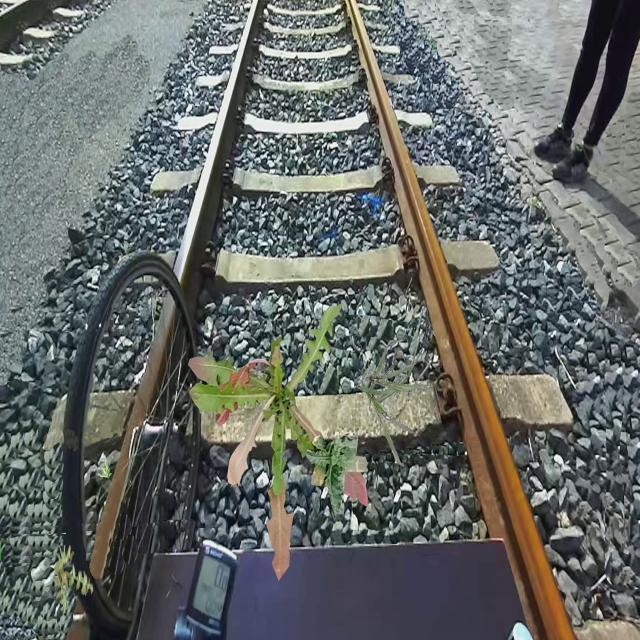Plant: (188, 304, 368, 582), (357, 340, 430, 464), (305, 435, 368, 518), (53, 544, 94, 616), (98, 458, 112, 478)
